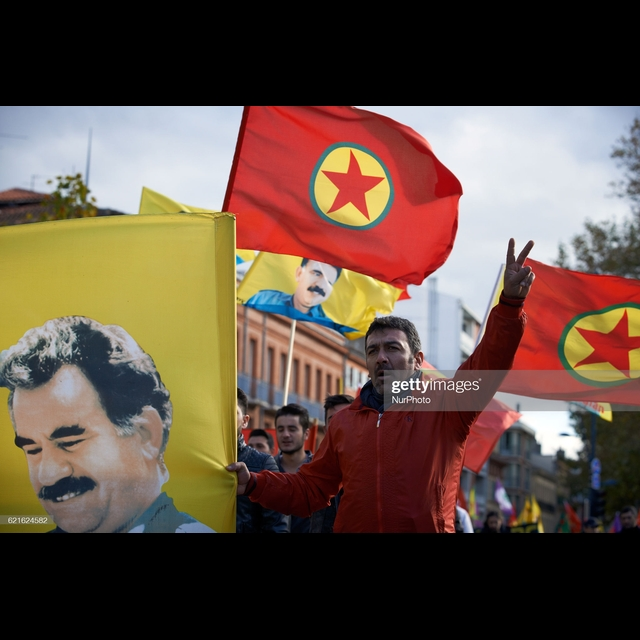APO: (4, 303, 175, 516), (285, 246, 348, 310)
ZI: (492, 229, 543, 318)
